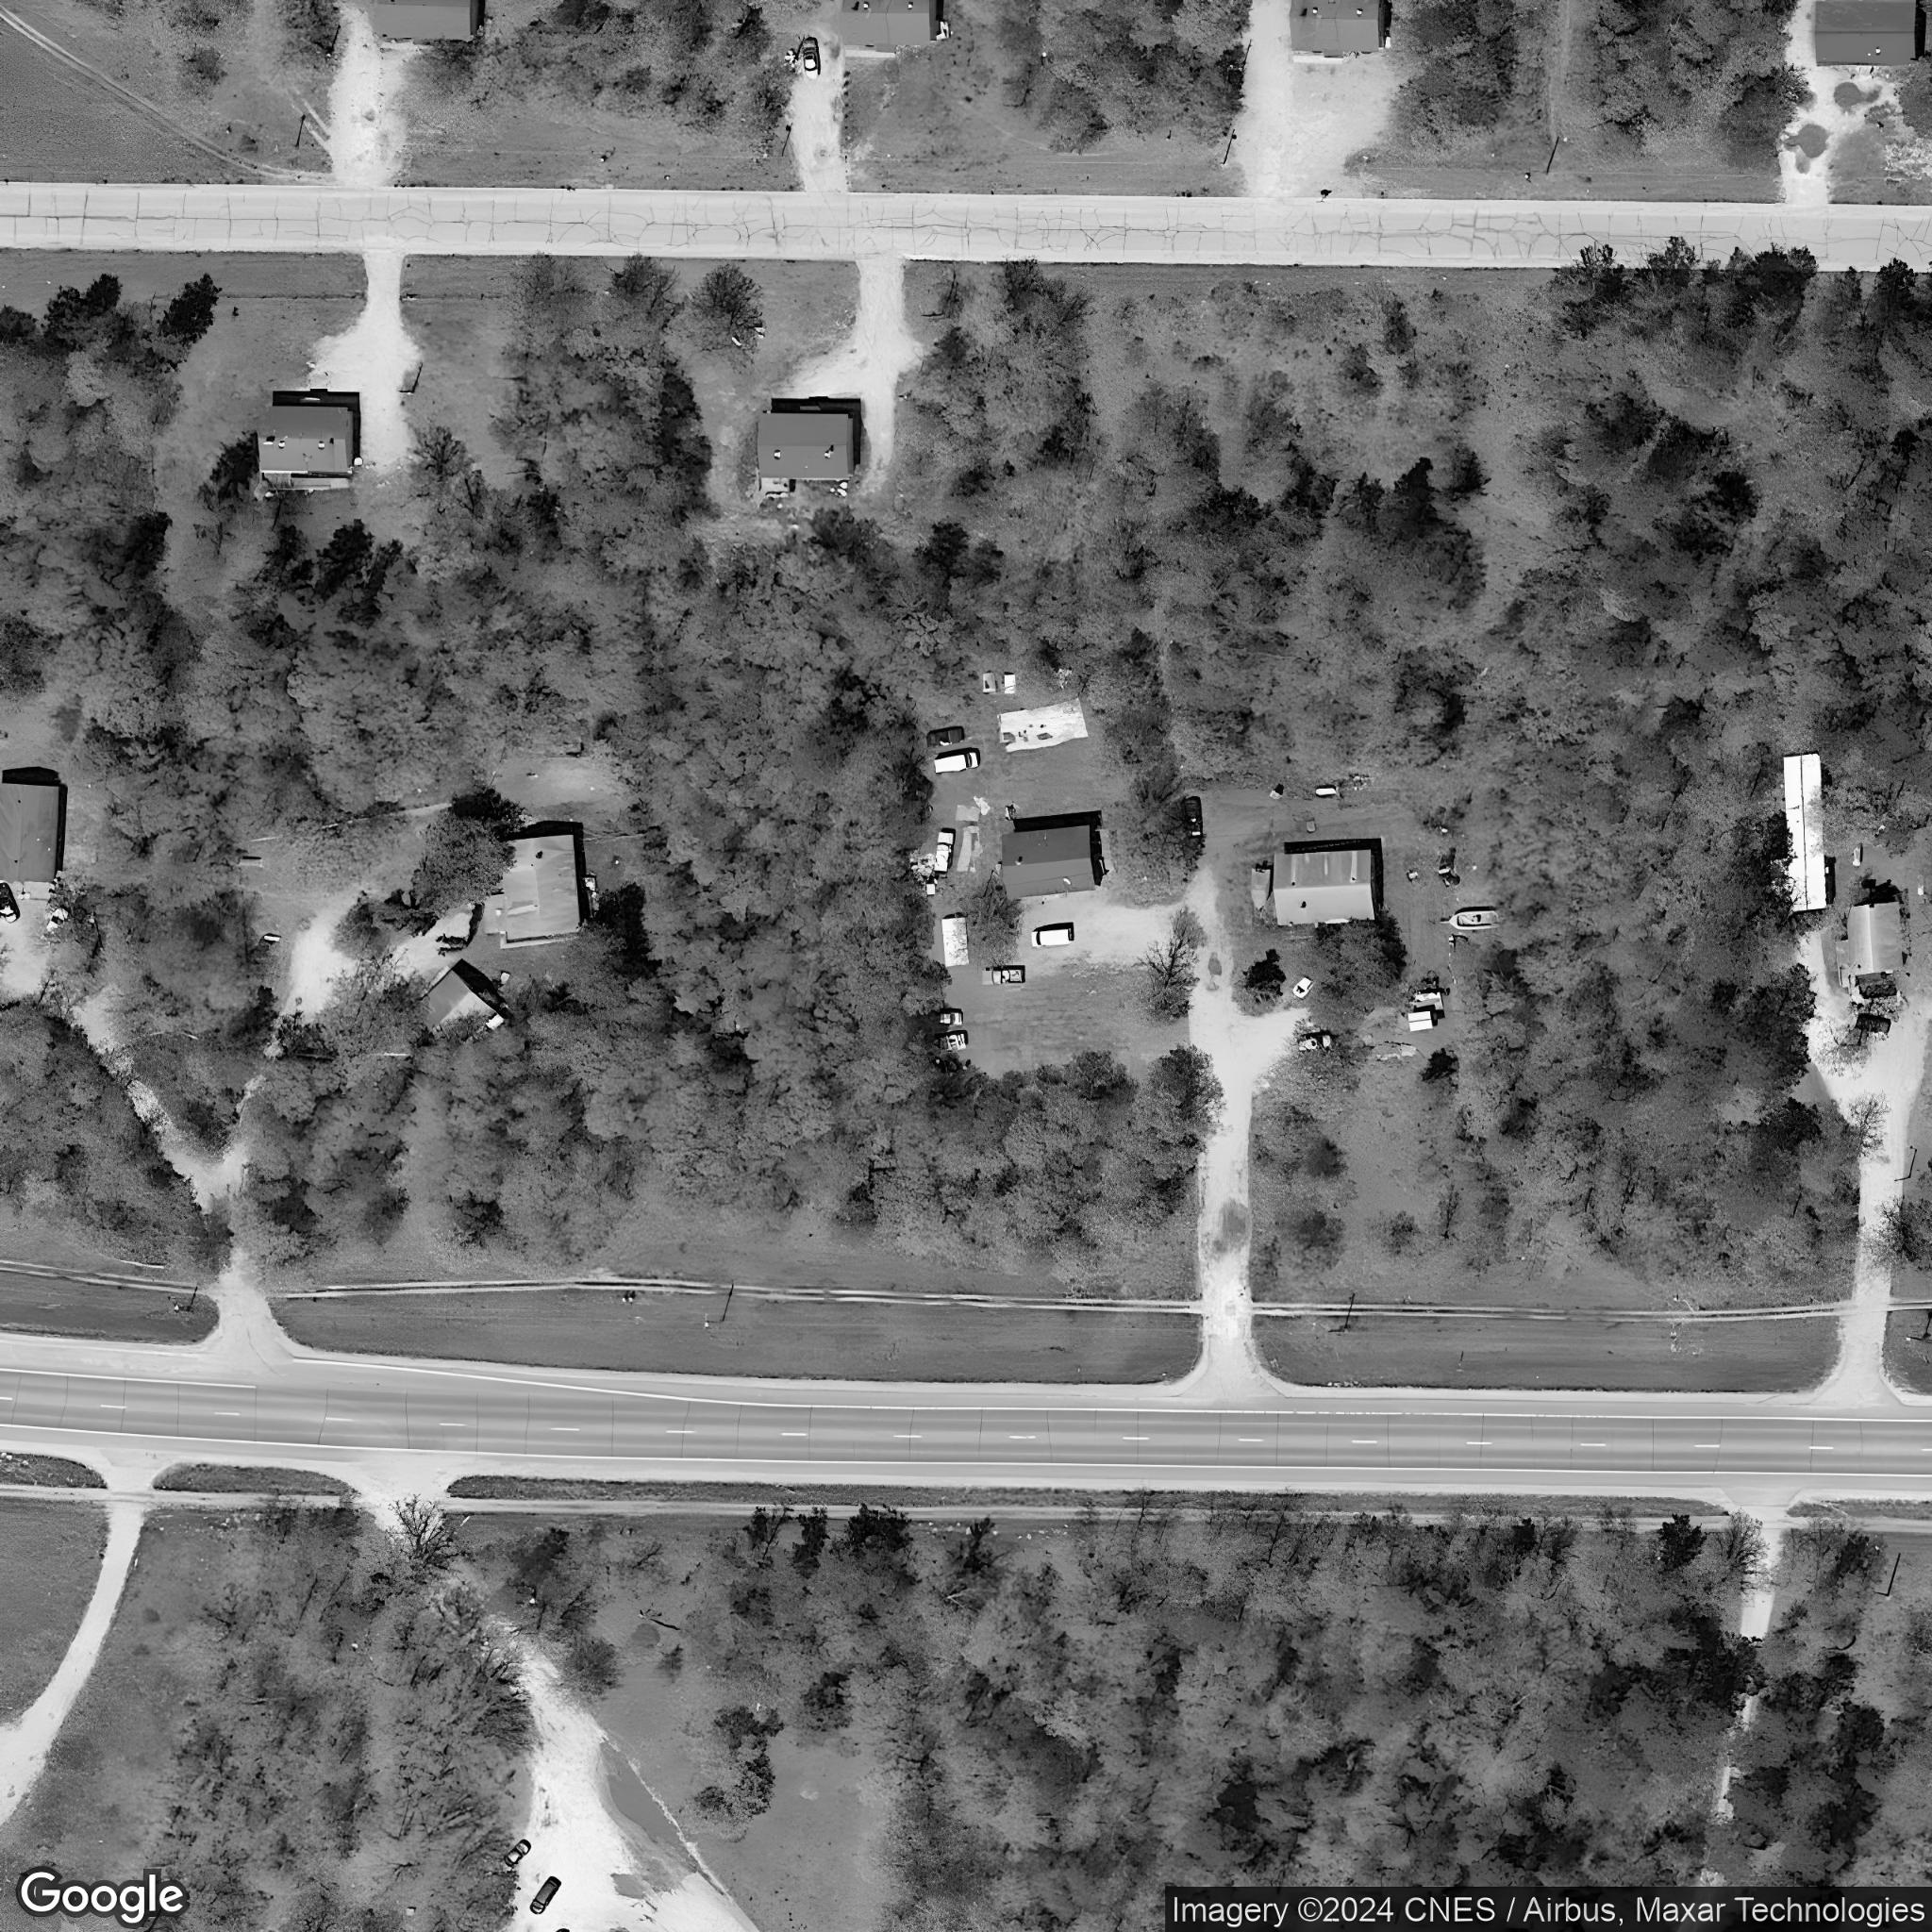Garage: (403, 964, 508, 1063), (1844, 899, 1904, 978)
House: (478, 832, 584, 943), (1272, 846, 1378, 927), (1000, 821, 1099, 901), (754, 410, 858, 481), (1812, 2, 1920, 65), (257, 403, 354, 472), (0, 780, 62, 883), (1288, 2, 1385, 53), (372, 2, 483, 41)
Propane: (1849, 840, 1867, 869), (1315, 784, 1338, 800)
Trailer: (1780, 750, 1829, 915)
